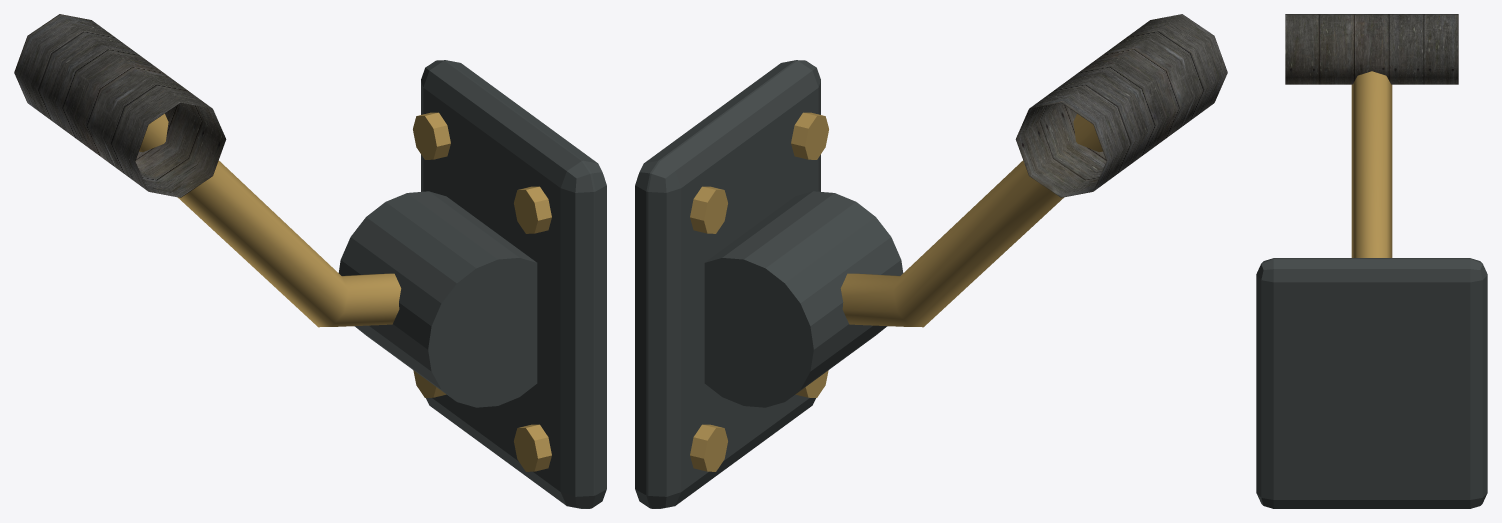
File: control_lever.glb
The picture shows the model from 3 angles, left to right: view 1: azimuth 30°, elevation 25°; view 2: azimuth 150°, elevation 25°; view 3: azimuth 270°, elevation 25°; orthographic projection. The views are drawn at different scales.
Visible parts, largest first — view 1: Handle, Mount; view 2: Handle, Mount; view 3: Mount, Handle.
Boxes of the visible parts, x1=… form: Handle: x1=14, y1=14, x2=537, y2=407; Mount: x1=413, y1=60, x2=606, y2=508; Handle: x1=704, y1=14, x2=1227, y2=407; Mount: x1=635, y1=60, x2=828, y2=508; Mount: x1=1256, y1=258, x2=1487, y2=508; Handle: x1=1285, y1=14, x2=1458, y2=257.
Size of the model in its own units: 0.2635 by 0.271 by 0.16.
Materials: 3 (1 with a texture image).
